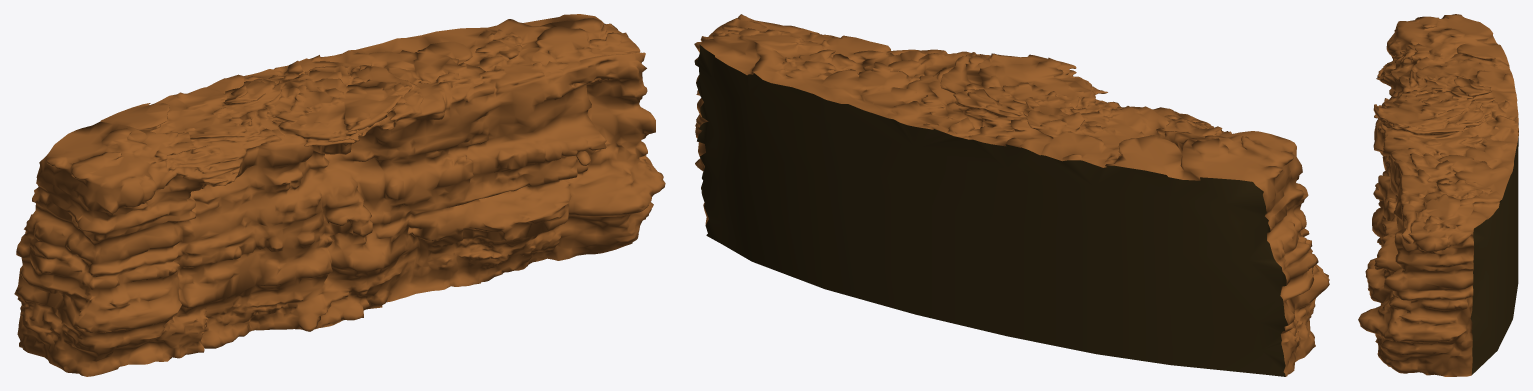
Rendered from MSH_Rocks_Cliff_32_a.FBX.
3 renders of one model, left to right at view 1: azimuth 30°, elevation 25°; view 2: azimuth 150°, elevation 25°; view 3: azimuth 270°, elevation 25°, orthographic. The views are drawn at different scales.
Parts seen in each view (by area): view 1: MESH_LOD0; view 2: CAP_LOD0, MESH_LOD0; view 3: MESH_LOD0, CAP_LOD0.
Boxes of the visible parts, box(x1,y1,x2,y2) form: MESH_LOD0: box(14, 14, 665, 376); CAP_LOD0: box(694, 44, 1288, 376); MESH_LOD0: box(694, 14, 1329, 376); MESH_LOD0: box(1358, 14, 1518, 376); CAP_LOD0: box(1470, 123, 1518, 374).
Size of what is drawn, in the model's own units: 402 by 131 by 118.
